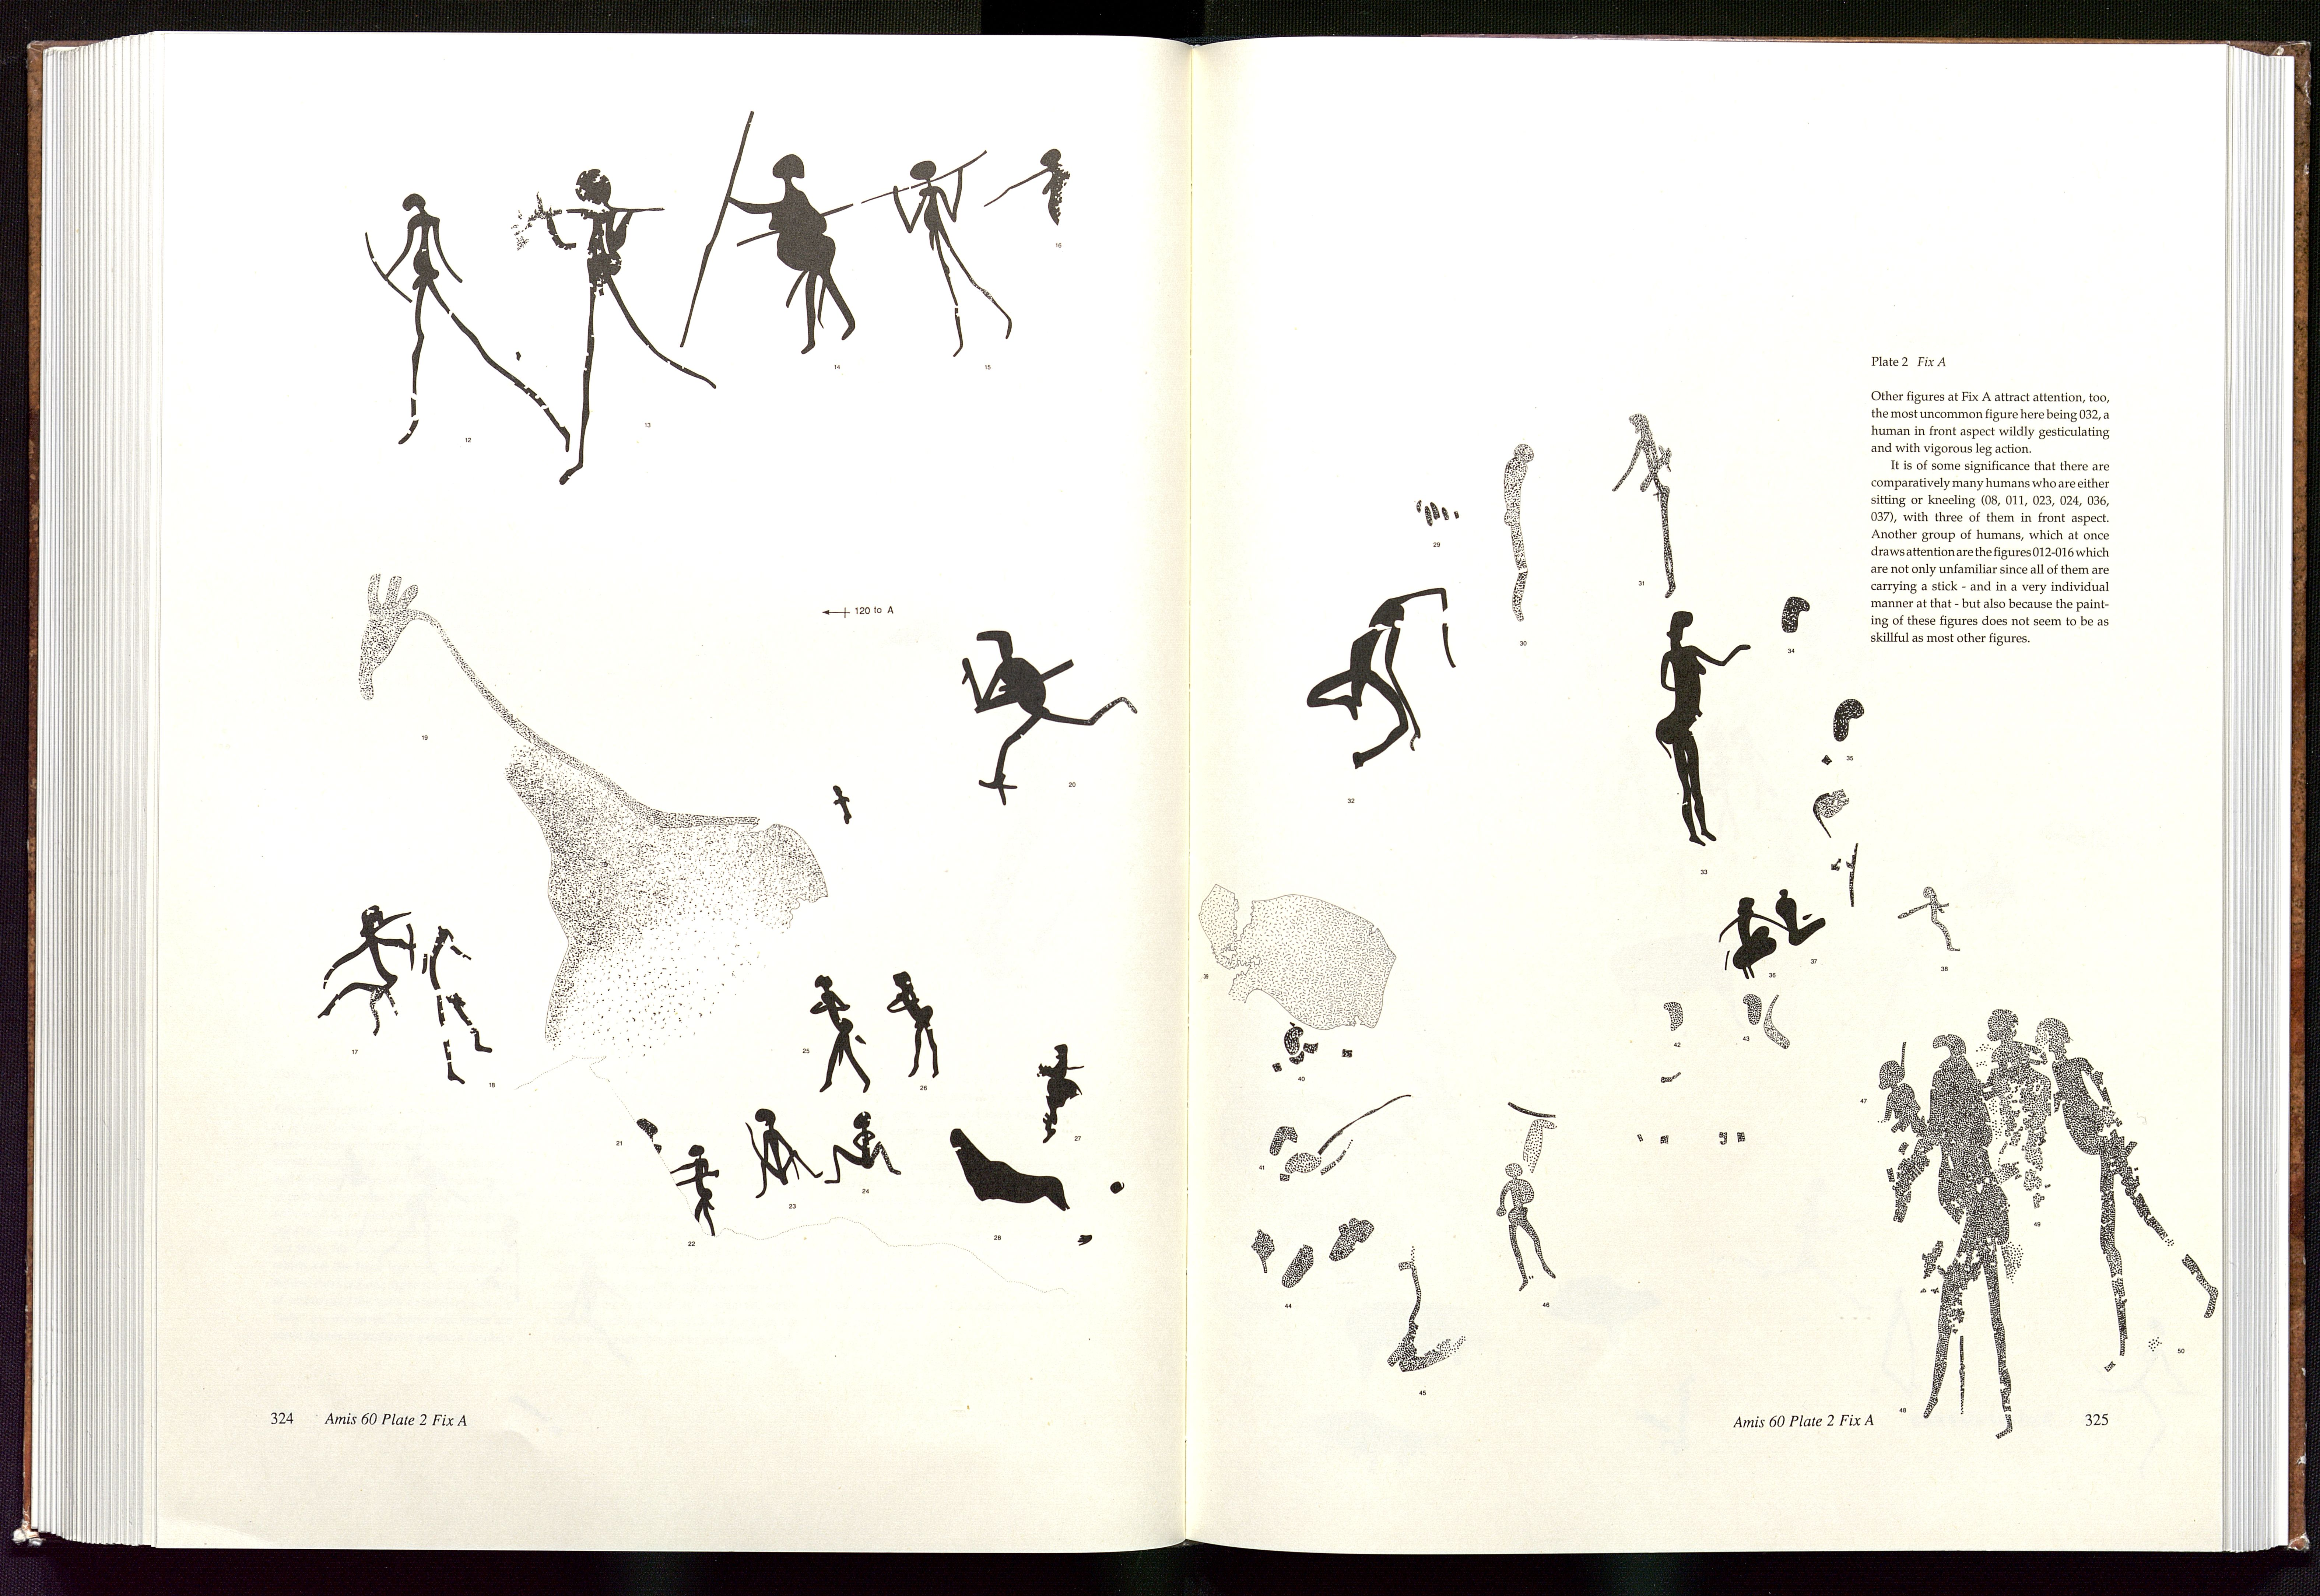animal: (342, 572, 842, 1066), (1195, 874, 1401, 1039), (943, 1120, 1074, 1216)
human: (2031, 1005, 2228, 1380), (355, 183, 575, 465), (529, 159, 716, 488), (672, 88, 863, 372), (1918, 1025, 2031, 1451), (945, 594, 1147, 811), (861, 124, 1020, 367), (1298, 579, 1464, 778), (1652, 603, 1753, 850), (1605, 395, 1685, 602), (1972, 996, 2056, 1190), (313, 903, 420, 1038), (987, 134, 1093, 260), (1868, 1032, 1935, 1229), (801, 971, 877, 1099), (1491, 1159, 1560, 1294), (1494, 435, 1541, 625), (743, 1105, 828, 1203), (824, 1099, 904, 1193), (881, 962, 944, 1083), (1032, 1040, 1084, 1147), (670, 1145, 727, 1243), (1715, 893, 1773, 981), (1775, 884, 1833, 955), (826, 777, 857, 828)
